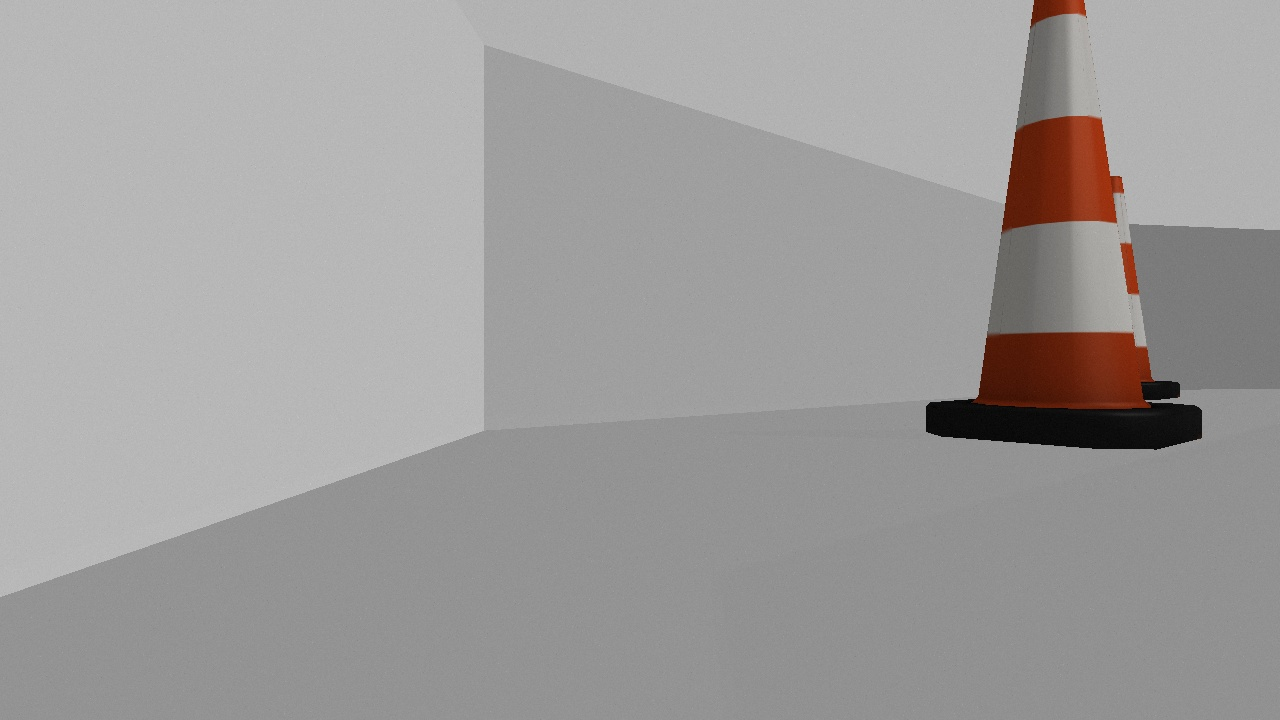barricade: (925, 2, 1202, 451), (1096, 170, 1181, 401)
